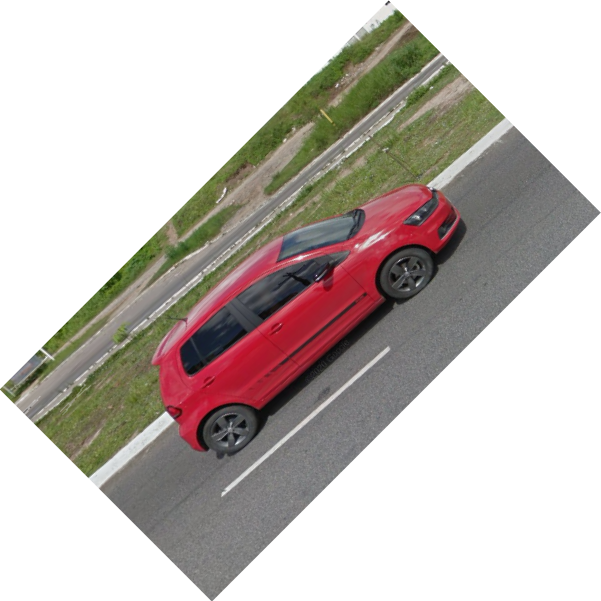car: (140, 178, 477, 462)
